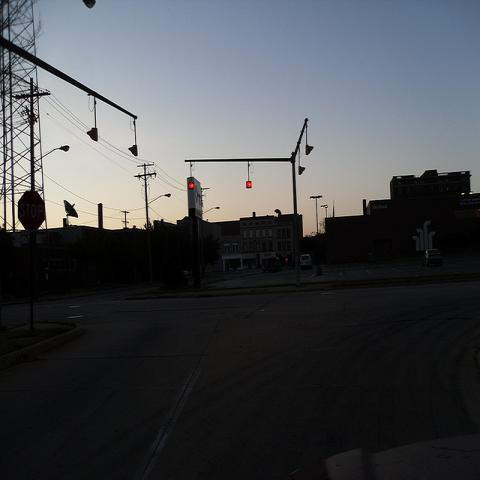car: (422, 248, 443, 267), (299, 254, 312, 270)
